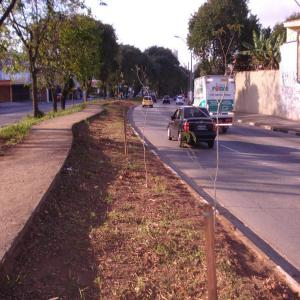Vehicle-registration-plate: (198, 126, 207, 131)
